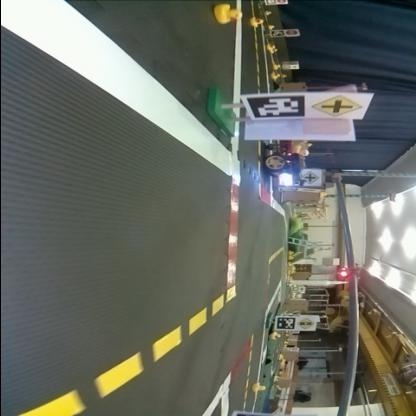Duckie: (215, 7, 242, 24), (292, 146, 309, 158), (250, 18, 262, 28), (252, 384, 266, 392), (269, 332, 281, 340), (267, 46, 275, 51), (272, 74, 279, 79), (274, 65, 281, 70)
Duckiebot: (264, 140, 300, 186)
Intersection sign: (310, 93, 368, 119), (300, 170, 322, 186)
QR code: (244, 94, 306, 120), (275, 316, 296, 330), (278, 186, 298, 192), (270, 31, 284, 38), (266, 1, 275, 7)
Signal sign: (297, 316, 316, 332)
Stop sign: (286, 30, 298, 36), (276, 1, 288, 7)
Traffic light: (338, 269, 359, 278)
